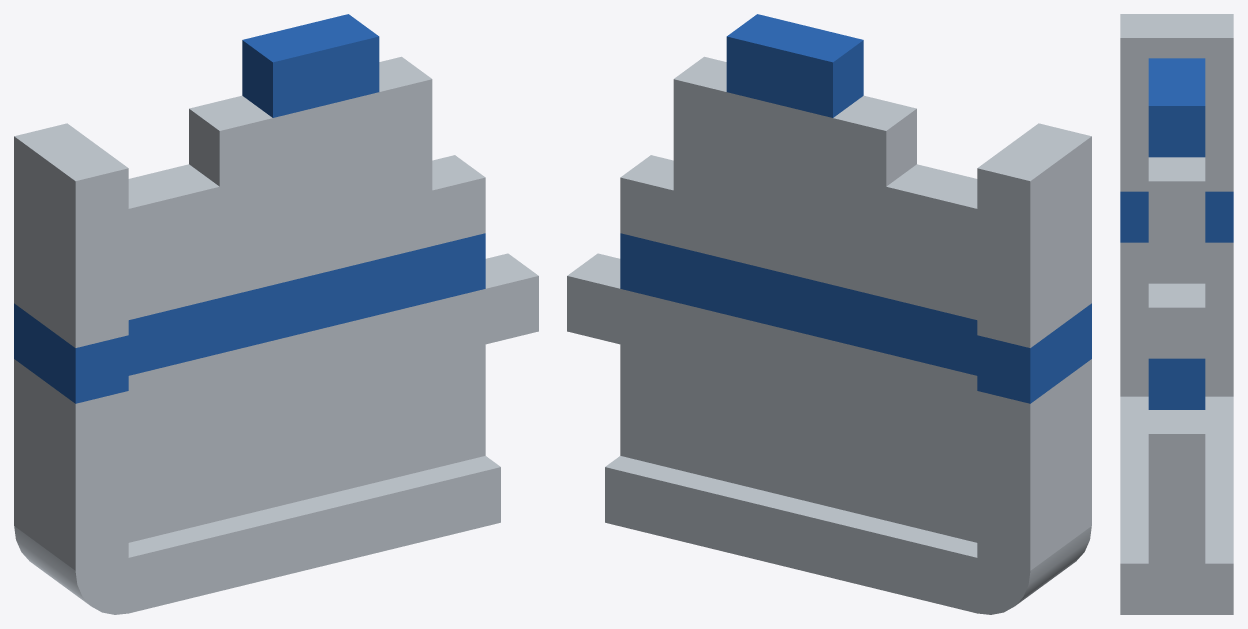
File: Broken Paper4.fbx
3 views of the same model, side by side, from view 1: azimuth 30°, elevation 25°; view 2: azimuth 150°, elevation 25°; view 3: azimuth 270°, elevation 25° (orthographic). The views are drawn at different scales.
Visible parts, largest first — view 1: generated; view 2: generated; view 3: generated.
Part boxes in pixels (<box>): generated: <box>14,14,538,614</box>; generated: <box>567,14,1091,614</box>; generated: <box>1120,14,1233,614</box>.
Bounding box in the file's own units: 90 × 90 × 20.
